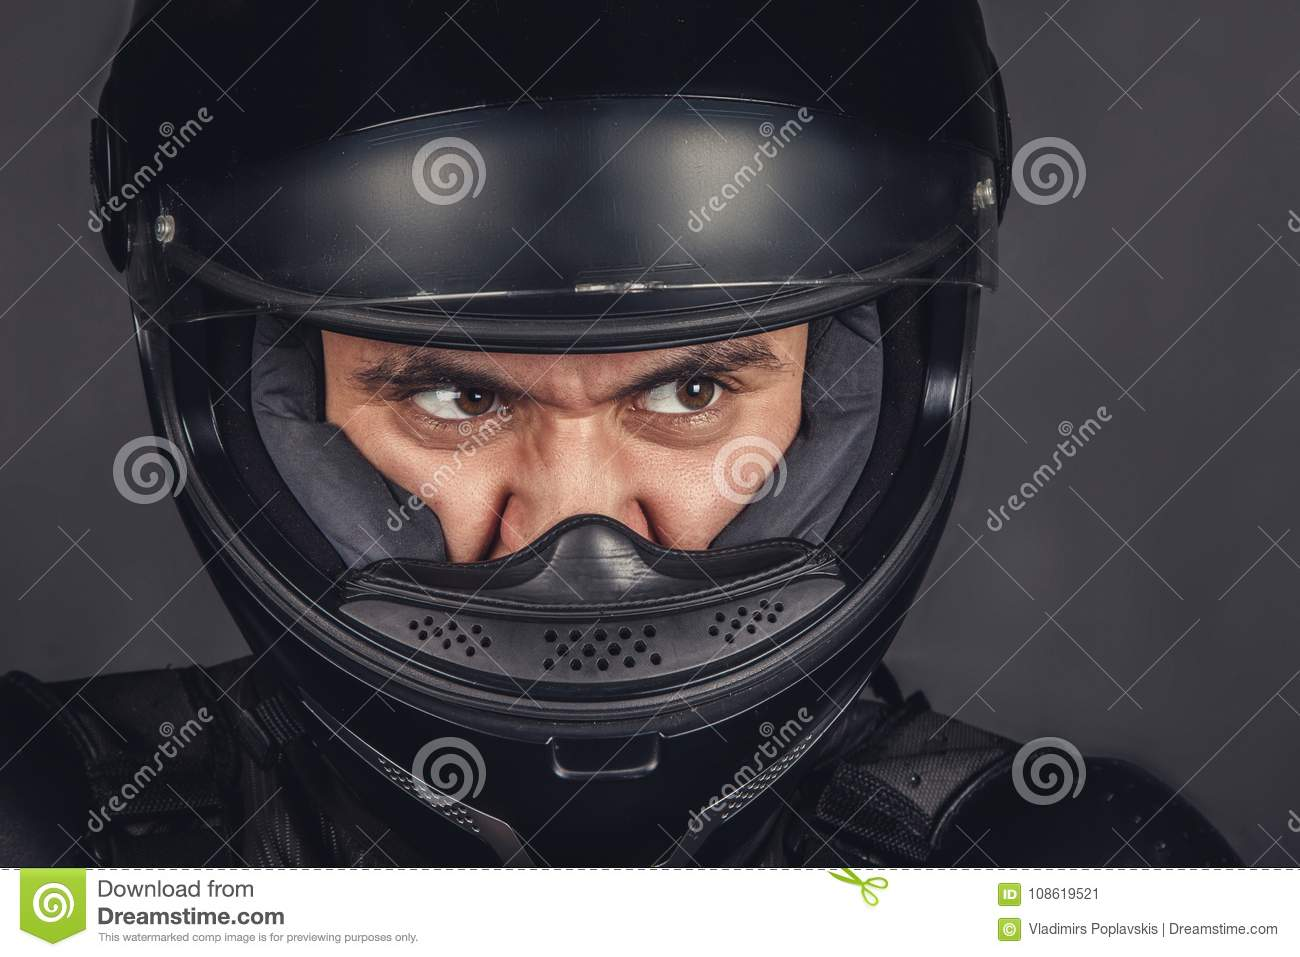helmet: (108, 13, 1002, 871)
